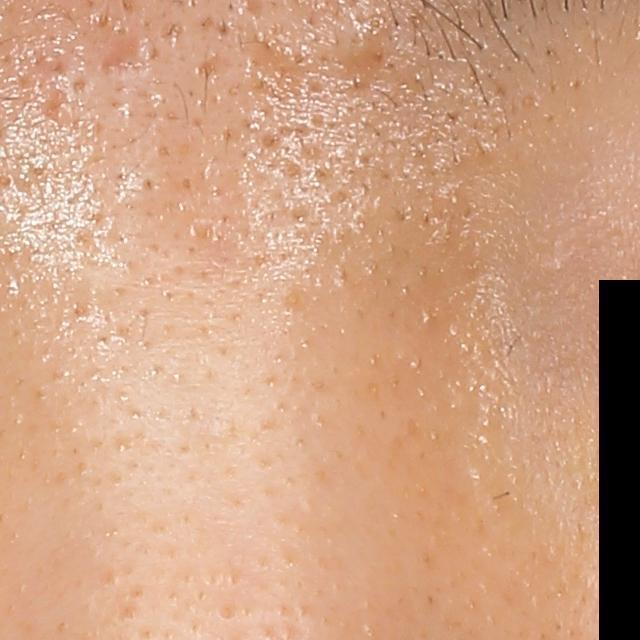atrophic_scar: (240, 30, 393, 93), (96, 32, 154, 82), (38, 90, 70, 125), (190, 55, 222, 79)
